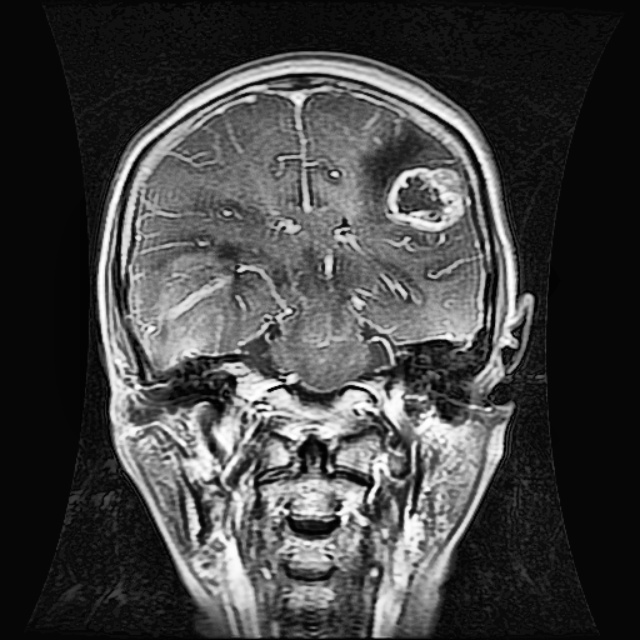Meningioma: (363, 119, 463, 228)
